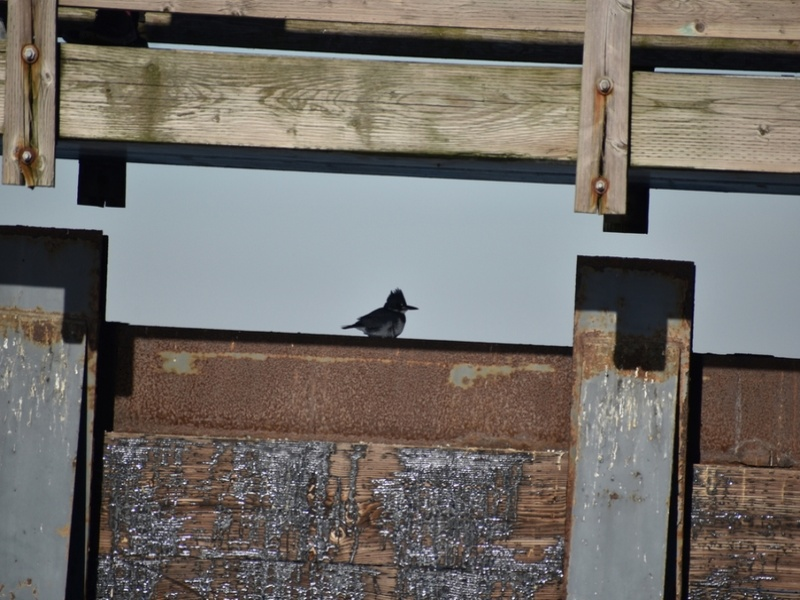kingfisher: (340, 285, 421, 337)
